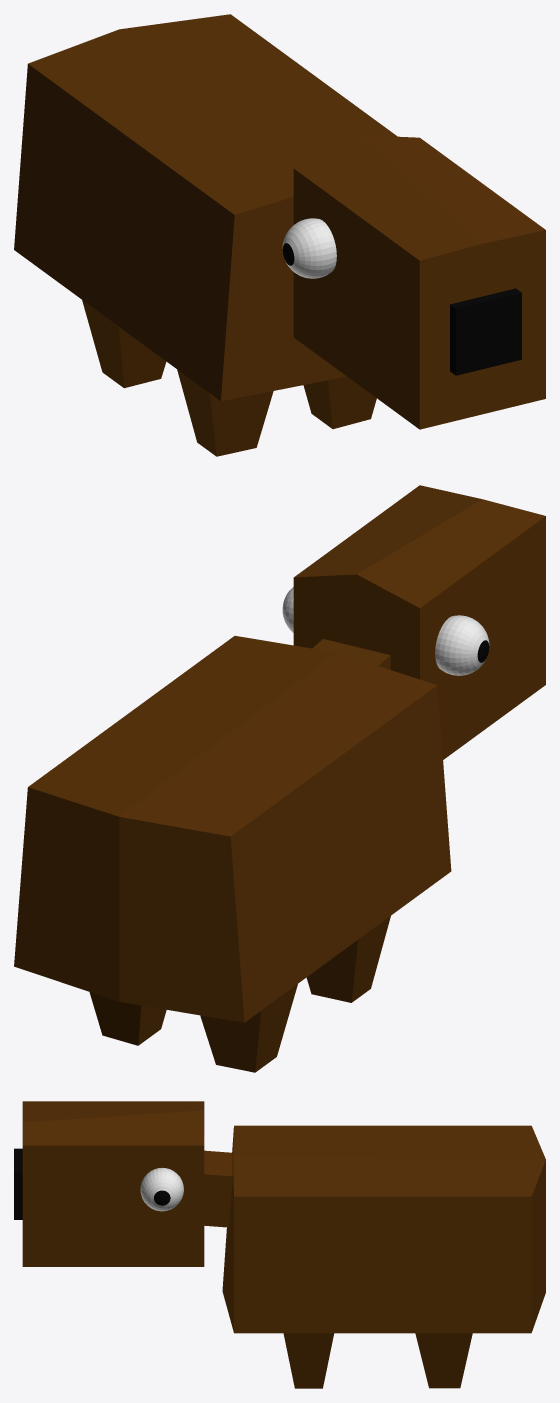
The model's file is Capybara.fbx.
3 renders of one model, top to bottom at view 1: azimuth 30°, elevation 25°; view 2: azimuth 150°, elevation 25°; view 3: azimuth 270°, elevation 25°, orthographic. The views are drawn at different scales.
Parts seen in each view (by area): view 1: Cube; view 2: Cube; view 3: Cube.
Boxes of the visible parts, x1,y1,x2,y2 form: Cube: [14, 14, 545, 456]; Cube: [14, 485, 545, 1072]; Cube: [14, 1101, 545, 1388].
Size of the model in its own units: 1.29 by 1.86 by 3.57.
